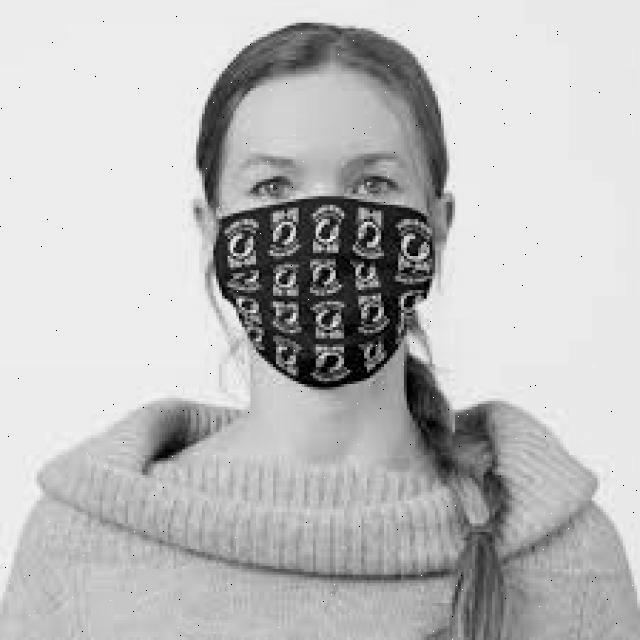fake: (215, 197, 440, 393)
real: (219, 68, 432, 396)
